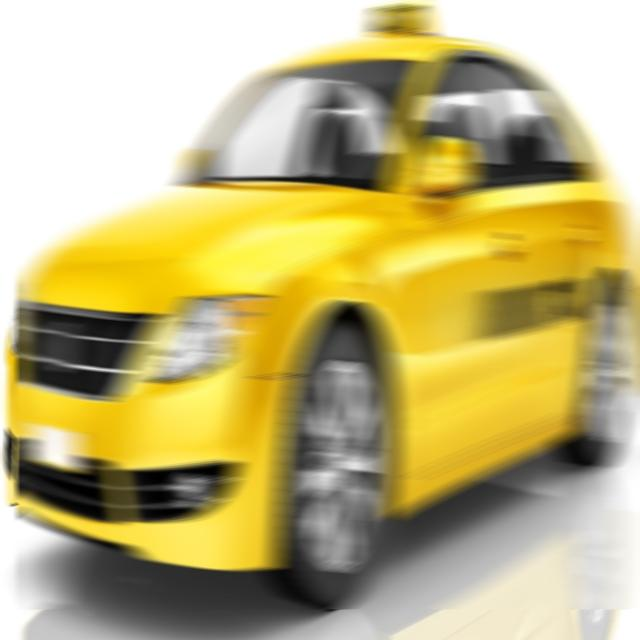Taxi: (15, 0, 640, 609)
